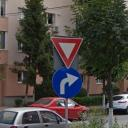preferencia: (48, 35, 88, 70)
